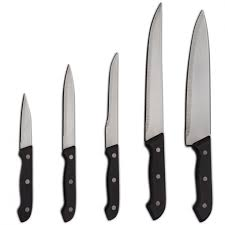kuchillu: (181, 6, 216, 225), (140, 1, 172, 222), (99, 48, 124, 223), (55, 59, 82, 220), (13, 91, 38, 223)
